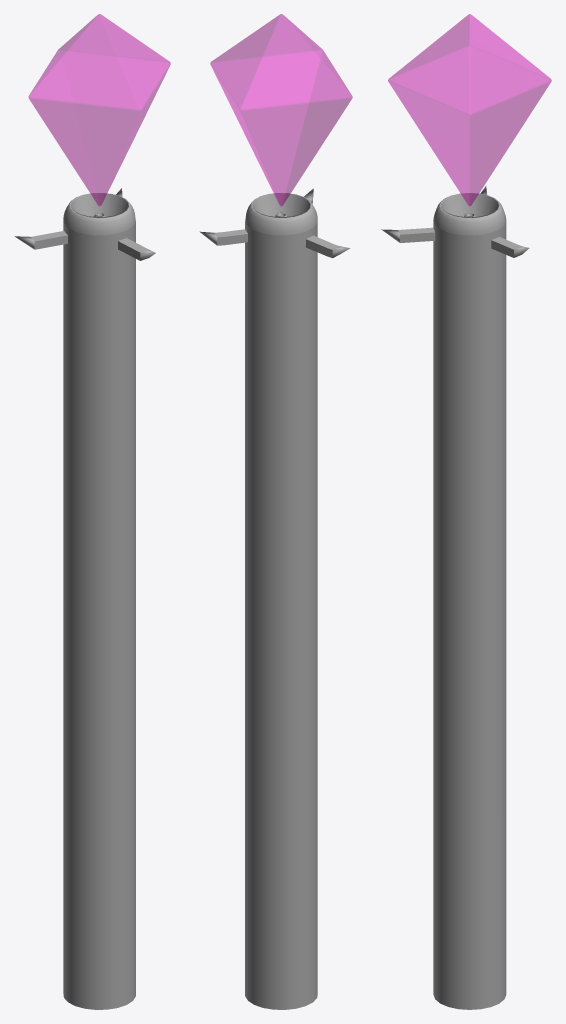
Rendered from Dome Post 1.fbx.
3 renders of one model, left to right at view 1: azimuth 30°, elevation 25°; view 2: azimuth 150°, elevation 25°; view 3: azimuth 270°, elevation 25°, orthographic.
Parts seen in each view (by area): view 1: pCylinder1, pPyramid1; view 2: pCylinder1, pPyramid1; view 3: pCylinder1, pPyramid1.
Part boxes in pixels (box(x1,y1,x2,y2)): pCylinder1: box(14, 188, 155, 1009); pPyramid1: box(28, 14, 170, 206); pCylinder1: box(199, 188, 350, 1009); pPyramid1: box(210, 14, 352, 206); pCylinder1: box(381, 186, 529, 1009); pPyramid1: box(388, 14, 551, 205).
Bounding box in the file's own units: 0.4691 × 2.96 × 0.4677.
